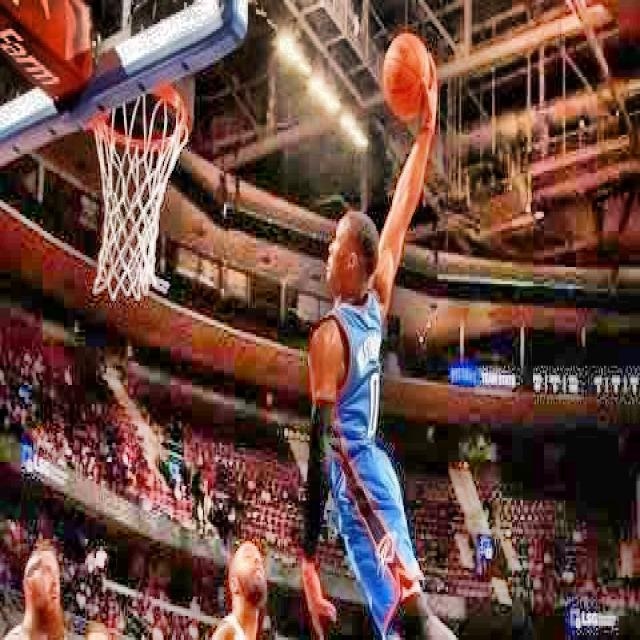board: (384, 34, 431, 122)
rim: (92, 83, 188, 300)
